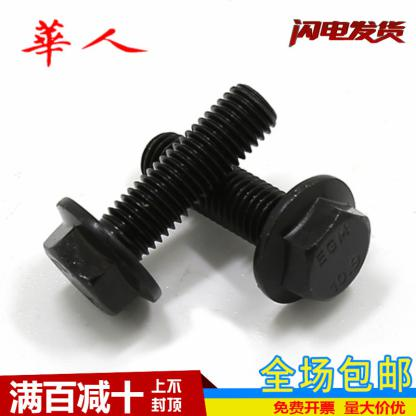FOD: (41, 84, 285, 316), (140, 130, 374, 307)
